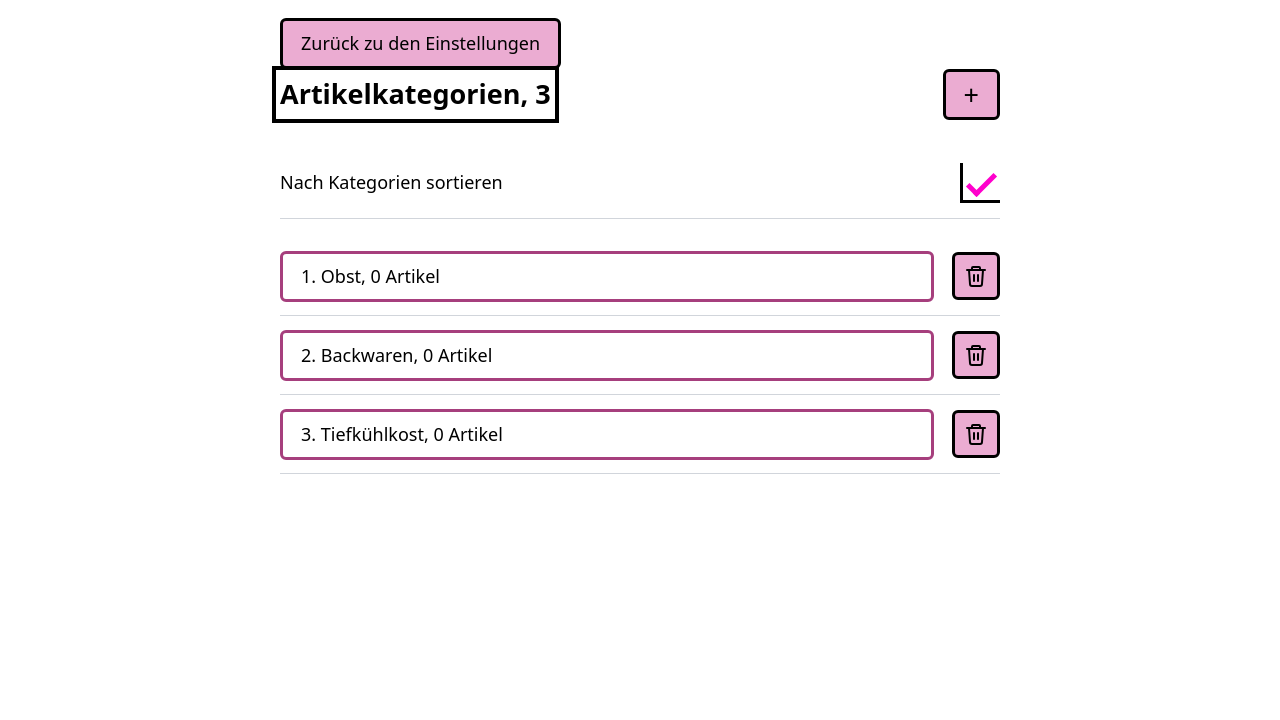
Test: ItemCategoriesArea › creates a category in between and moves the following ones back
This screenshot has width=1280, height=720.
Click the button named "Artikelkategorie anlegen" at (971, 94), box [942,69,1000,120]
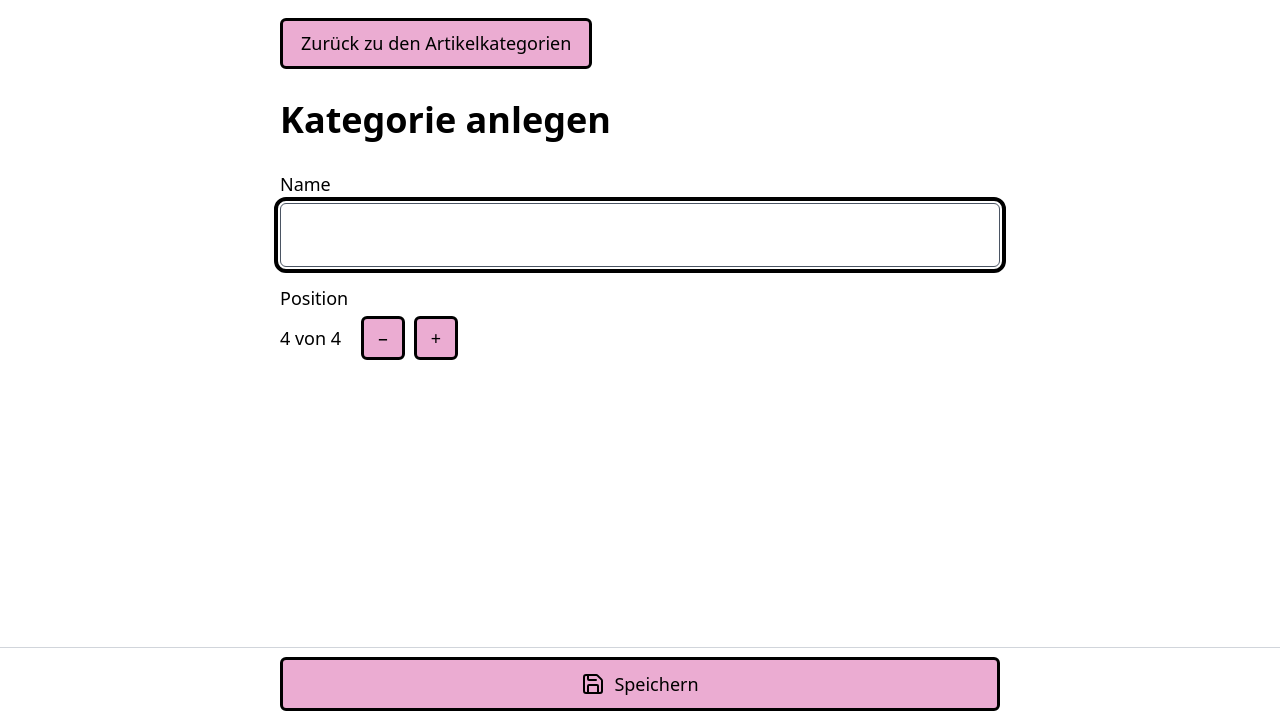
Type "Drogerie" into the field labelled "Name" at (640, 235), box [280,203,1000,267]
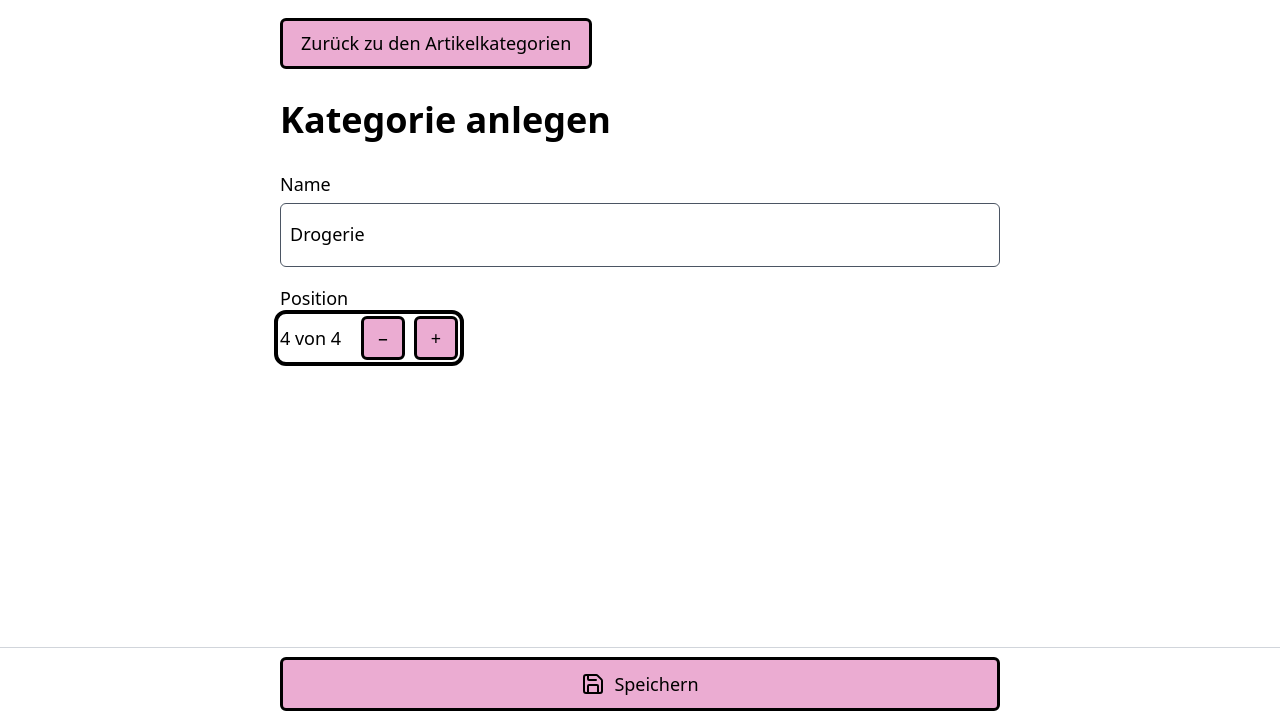
Press Arrowdown
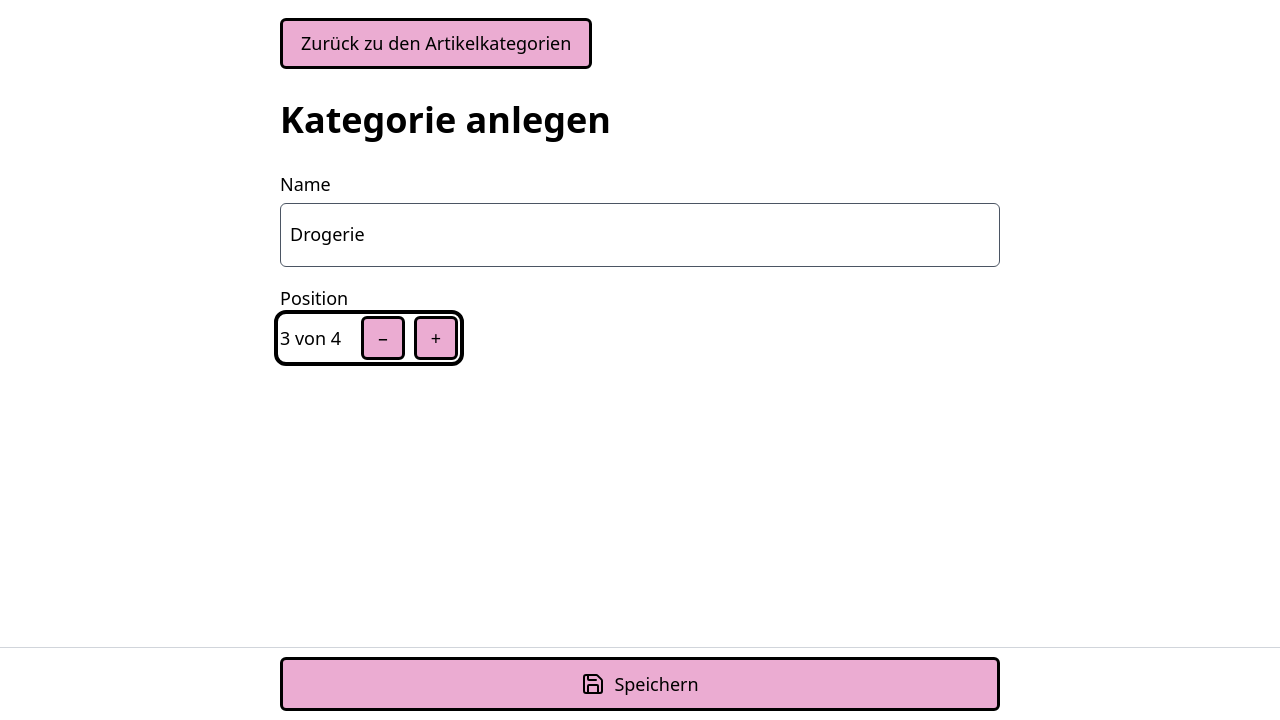
Press Arrowdown
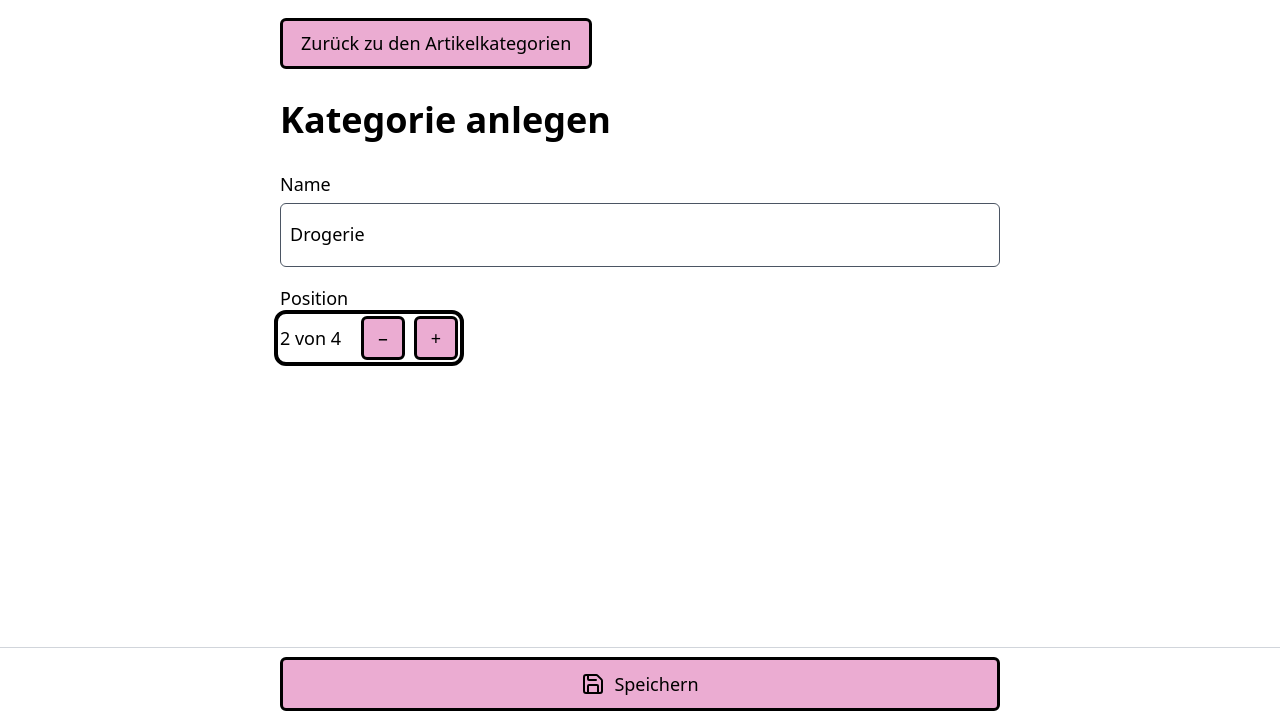
Click the button "Speichern" at (640, 684), box [280,657,1000,711]
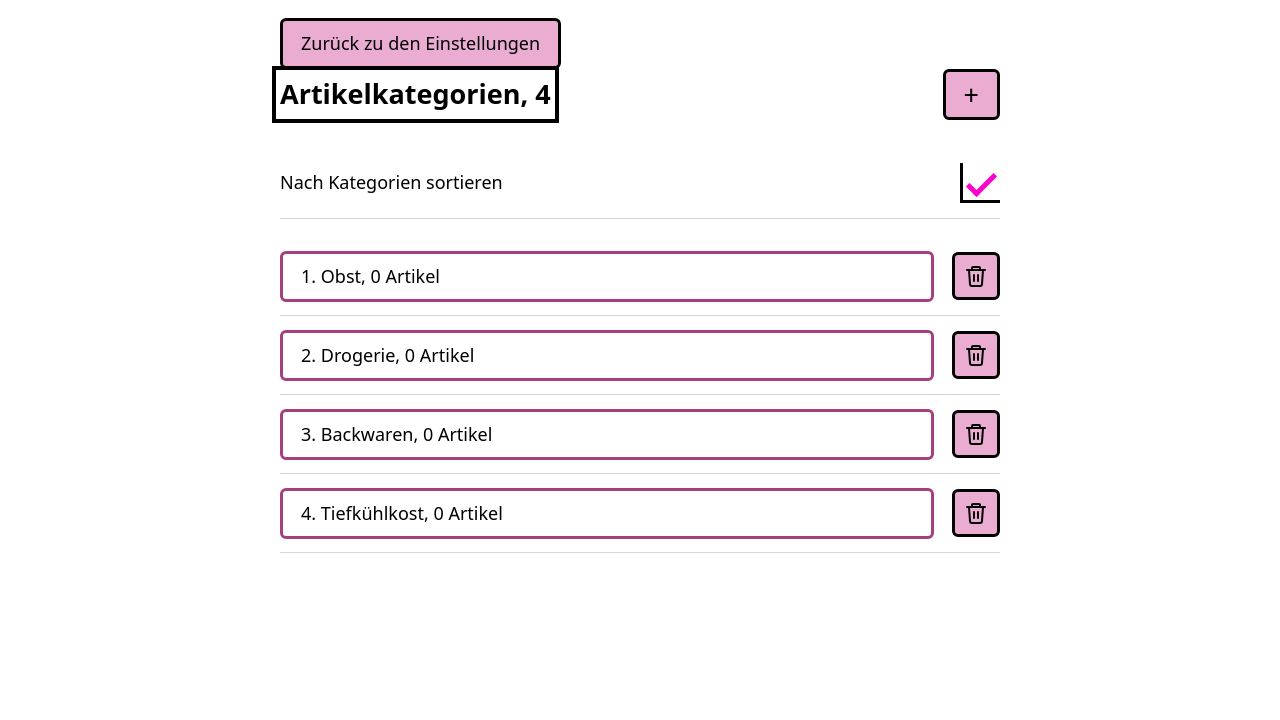
Now the button "3. Backwaren, 0 Artikel" is shown, box [280,408,934,460]
